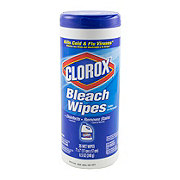Wipes: (56, 8, 126, 172)
